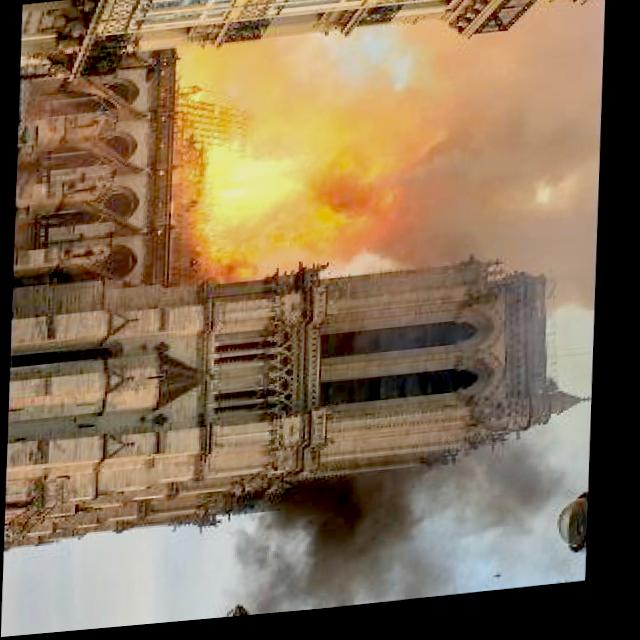helmet: (159, 41, 421, 295)
no_helmet: (407, 22, 614, 336), (245, 429, 567, 621)
